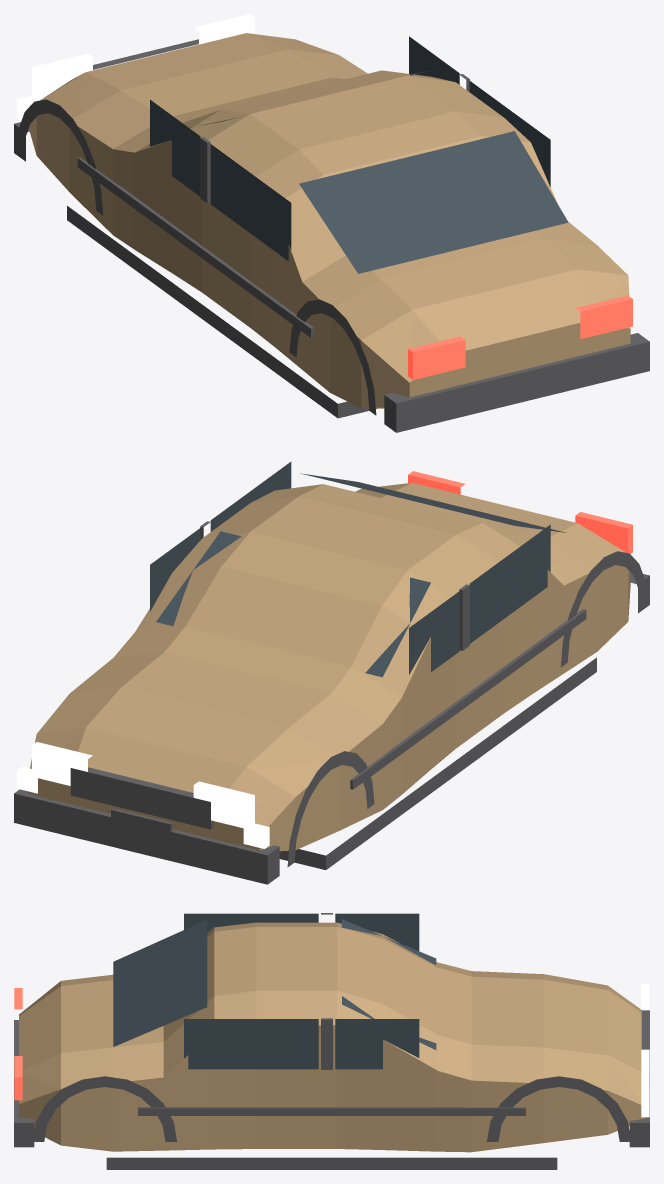
File: zaz_968.glb
3 renders of one model, top to bottom at view 1: azimuth 30°, elevation 25°; view 2: azimuth 150°, elevation 25°; view 3: azimuth 270°, elevation 25°, orthographic. The views are drawn at different scales.
Parts seen in each view (by area): view 1: car_body; view 2: car_body; view 3: car_body.
Boxes of the visible parts, x1,y1,x2,y2 form: car_body: [14, 14, 649, 432]; car_body: [14, 461, 649, 884]; car_body: [14, 913, 649, 1169].
Size of the model in its own units: 1.57 by 1.04 by 3.78.
